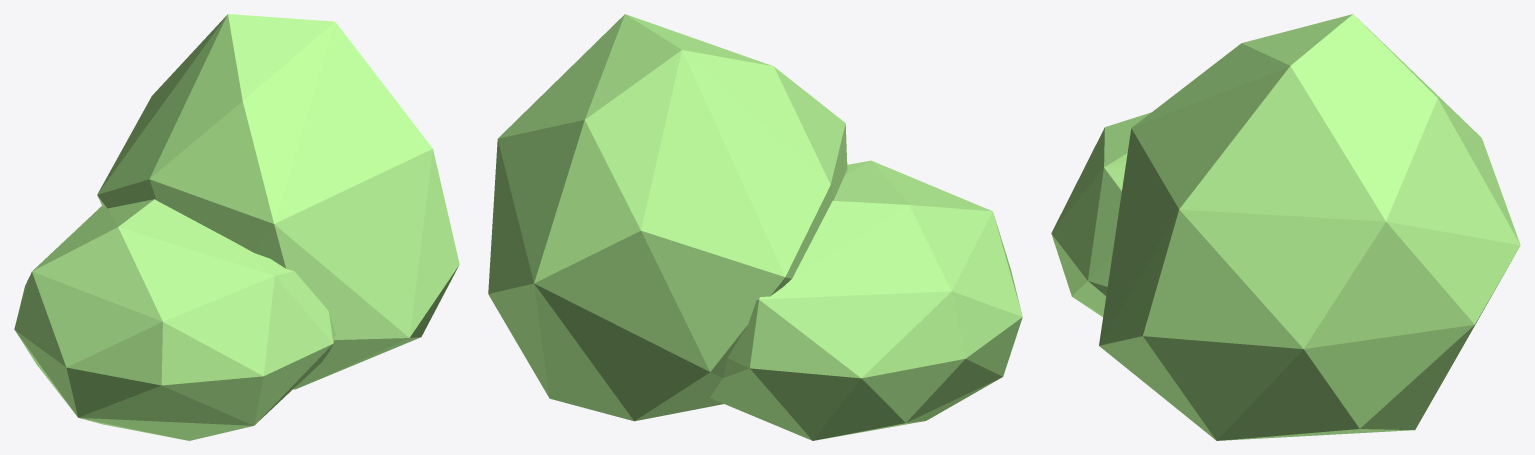
The model's file is Bush_d_m_01.fbx.
3 renders of one model, left to right at view 1: azimuth 30°, elevation 25°; view 2: azimuth 150°, elevation 25°; view 3: azimuth 270°, elevation 25°, orthographic. The views are drawn at different scales.
Visible parts, largest first — view 1: Bush_d_m_01; view 2: Bush_d_m_01; view 3: Bush_d_m_01.
Boxes of the visible parts, bbox=[...] form: Bush_d_m_01: bbox=[14, 14, 459, 440]; Bush_d_m_01: bbox=[488, 14, 1022, 440]; Bush_d_m_01: bbox=[1051, 14, 1520, 440].
Bounding box in the file's own units: 179 × 143 × 151.
